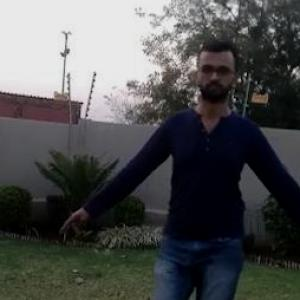land: (87, 71, 299, 299)
